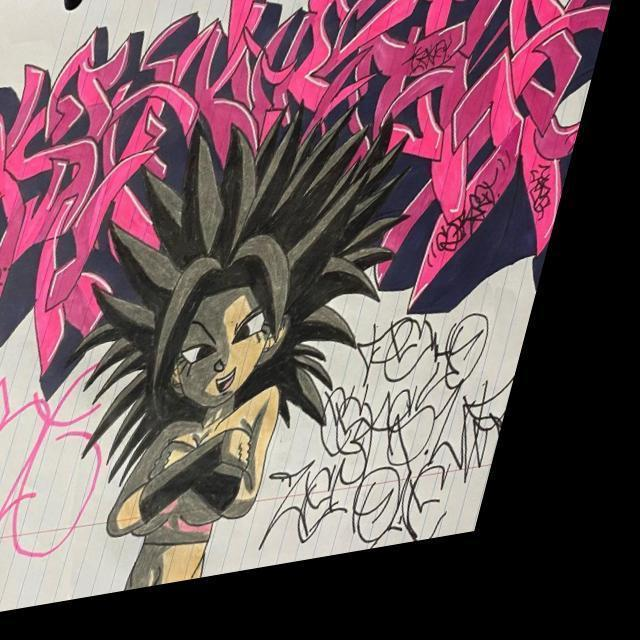nonspitting: (0, 0, 612, 399), (258, 312, 518, 546), (0, 363, 101, 558)
spitting: (69, 107, 412, 591)
